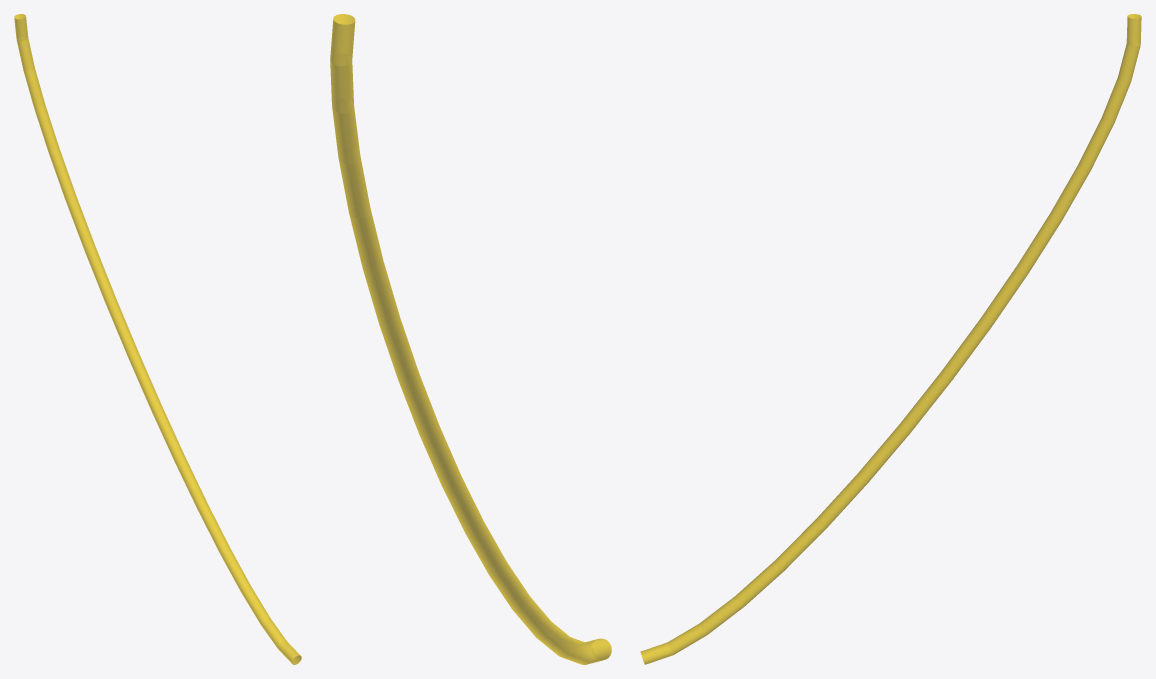
File: Event_75125125_track_19.fbx
The picture shows the model from 3 angles, left to right: view 1: azimuth 30°, elevation 25°; view 2: azimuth 150°, elevation 25°; view 3: azimuth 270°, elevation 25°; orthographic projection. The views are drawn at different scales.
Parts seen in each view (by area): view 1: Model; view 2: Model; view 3: Model.
Part boxes in pixels (x1,y1,x2,y2): Model: (14,14,301,664); Model: (330,14,611,664); Model: (640,14,1141,664).
Bounding box in the file's own units: 0.307 × 1.9 × 1.42.
